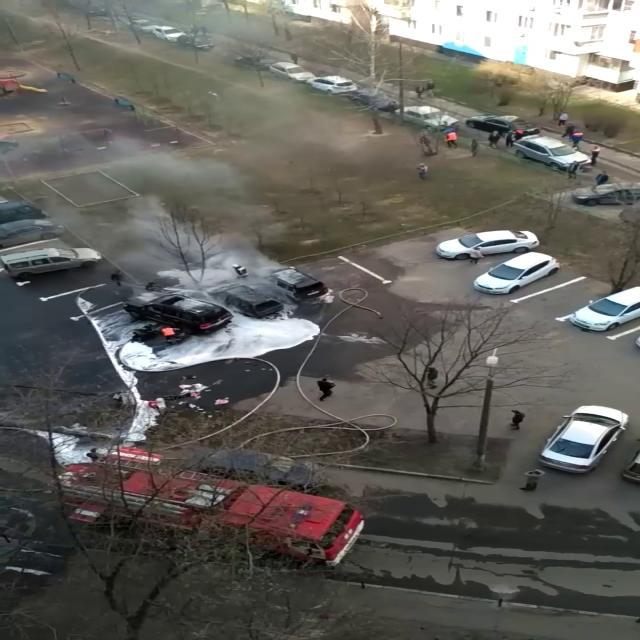Smoke: (2, 123, 301, 307)
